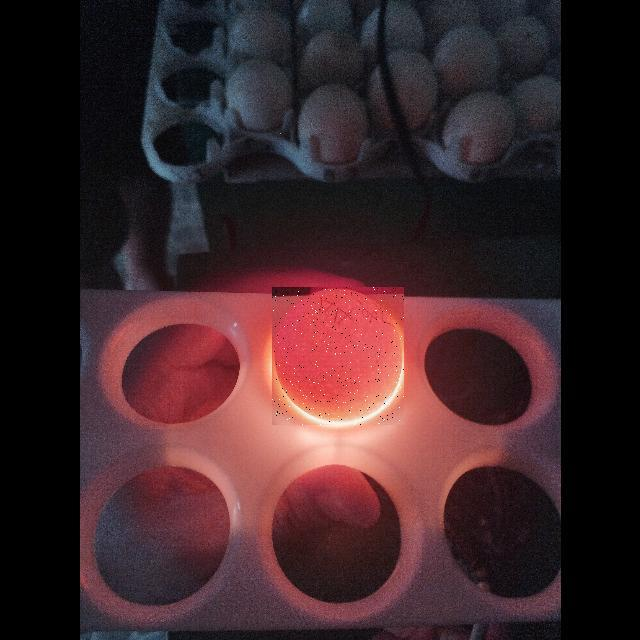Infertile: (272, 287, 404, 425)
